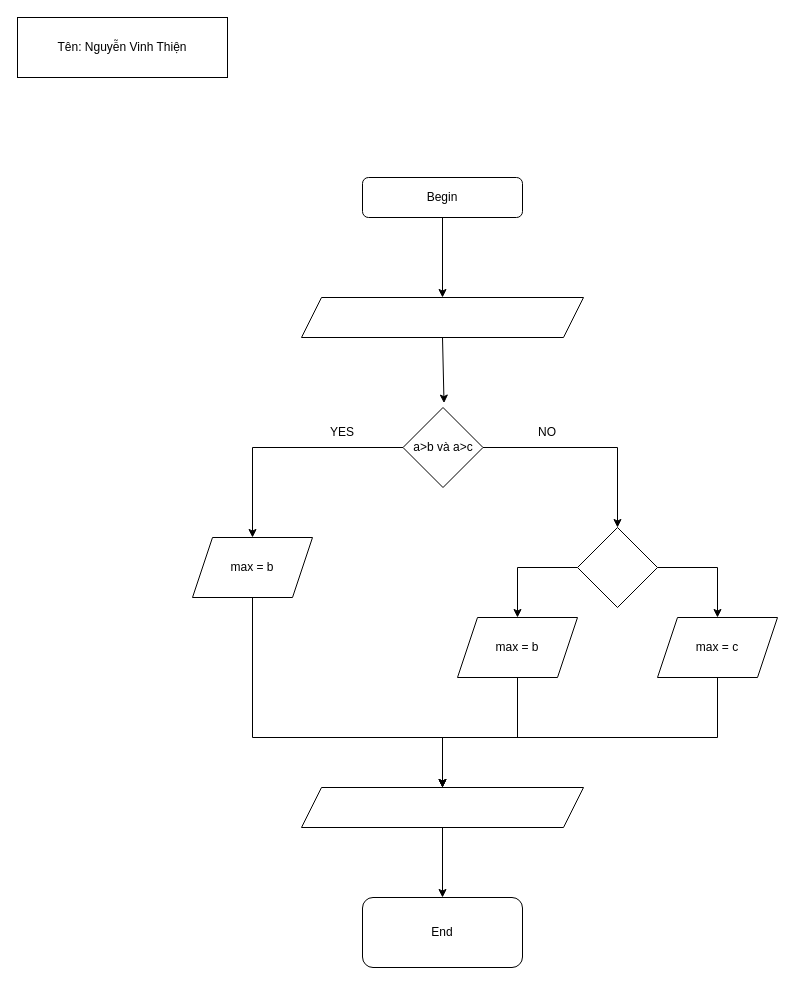
Some shapes in this 795 by 985 pixel diagram are drawn without their labels. The centre of each missing label's shape, as x and y in pixels:
"b>c" belongs at point (617, 567).
"Input a,b,c" belongs at point (442, 317).
"Output max" belongs at point (442, 807).
